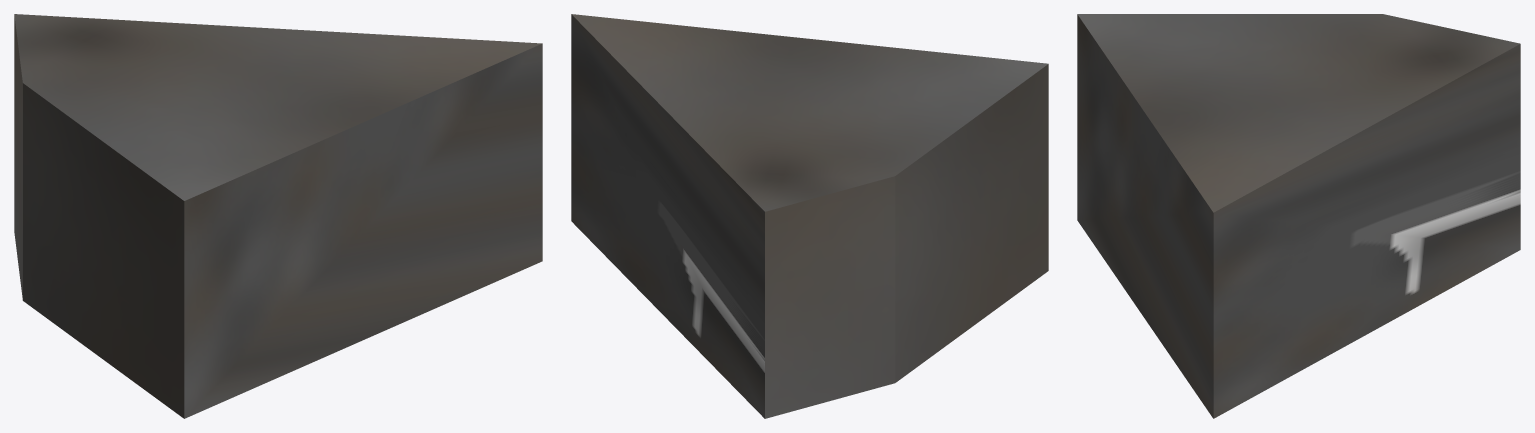
Rendered from ishi_01_7_7.fbx.
3 views of the same model, side by side, from view 1: azimuth 30°, elevation 25°; view 2: azimuth 150°, elevation 25°; view 3: azimuth 270°, elevation 25° (orthographic). The views are drawn at different scales.
Visible parts, largest first — view 1: polySurface11; view 2: polySurface11; view 3: polySurface11.
Boxes of the visible parts, x1,y1,x2,y2 form: polySurface11: (14,14,542,418); polySurface11: (571,14,1048,418); polySurface11: (1077,14,1520,418).
Bounding box in the file's own units: 9.63 × 4.66 × 9.08.
Materials: 1 (1 with a texture image).
